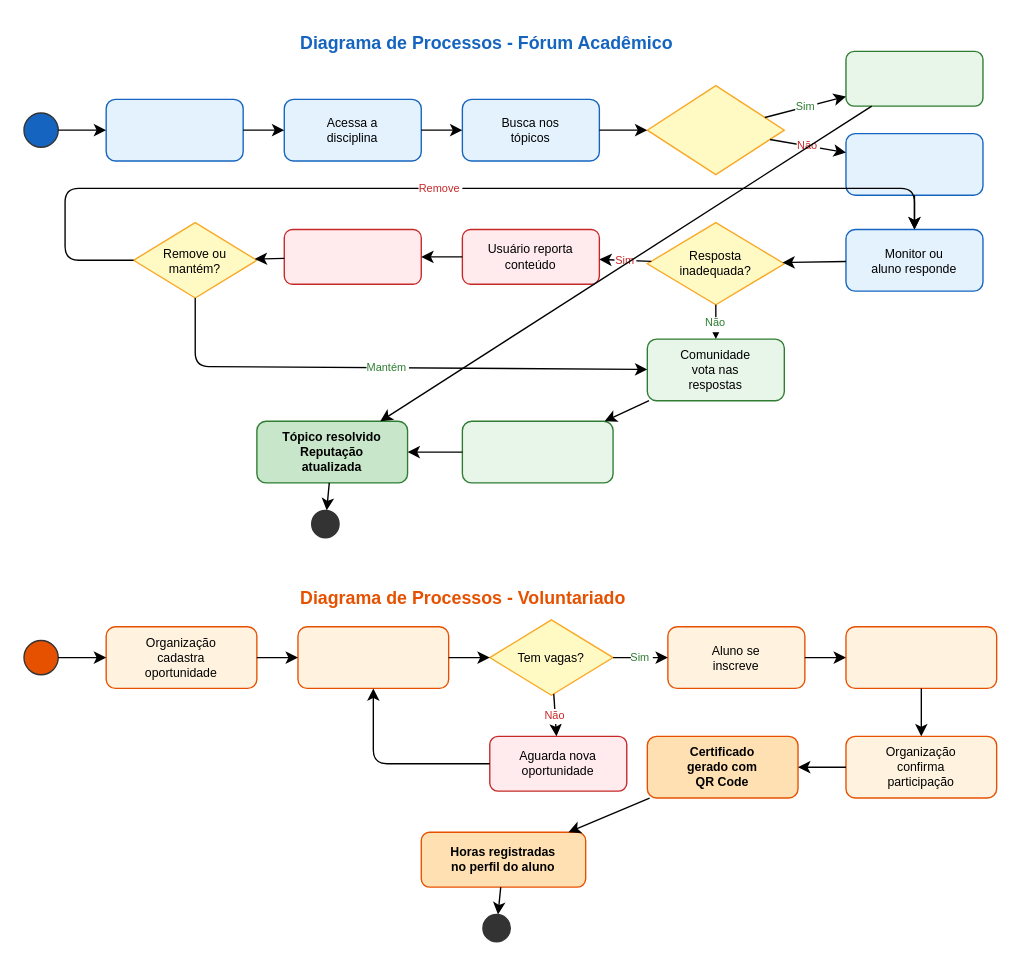
Image size: 1021x966. Some labels were removed from this diagram. The centre of each missing label's shape, as x and y in pixels:
"Aluno faz login com CPF" goes at point 174,129.
"Aluno participa da atividade" goes at point 921,656.
"Aluno visualiza oportunidades" goes at point 373,656.
"Autor ou monitor marca melhor resposta" goes at point 537,451.
"Cria novo tópico com categoria" goes at point 914,163.
"Encontrou resposta?" goes at point 715,129.
"Monitor/Prof avalia report" goes at point 352,256.
"Vota na resposta útil" goes at point 914,78.
